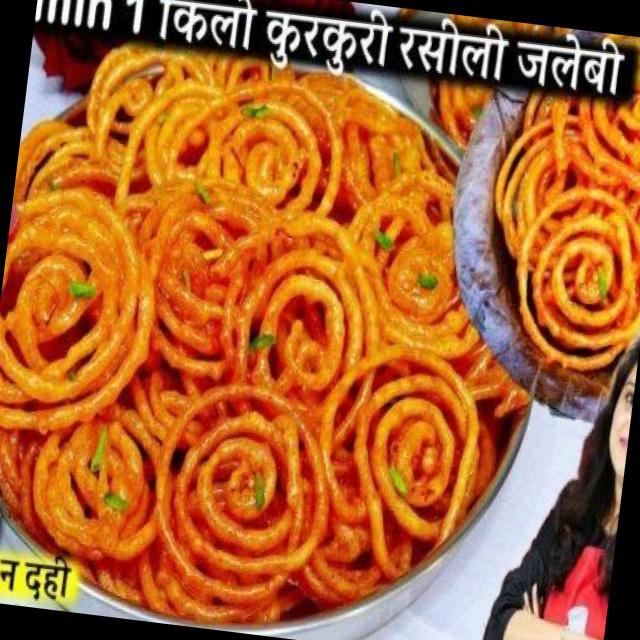jalebi: (0, 30, 493, 637), (470, 22, 640, 429)
